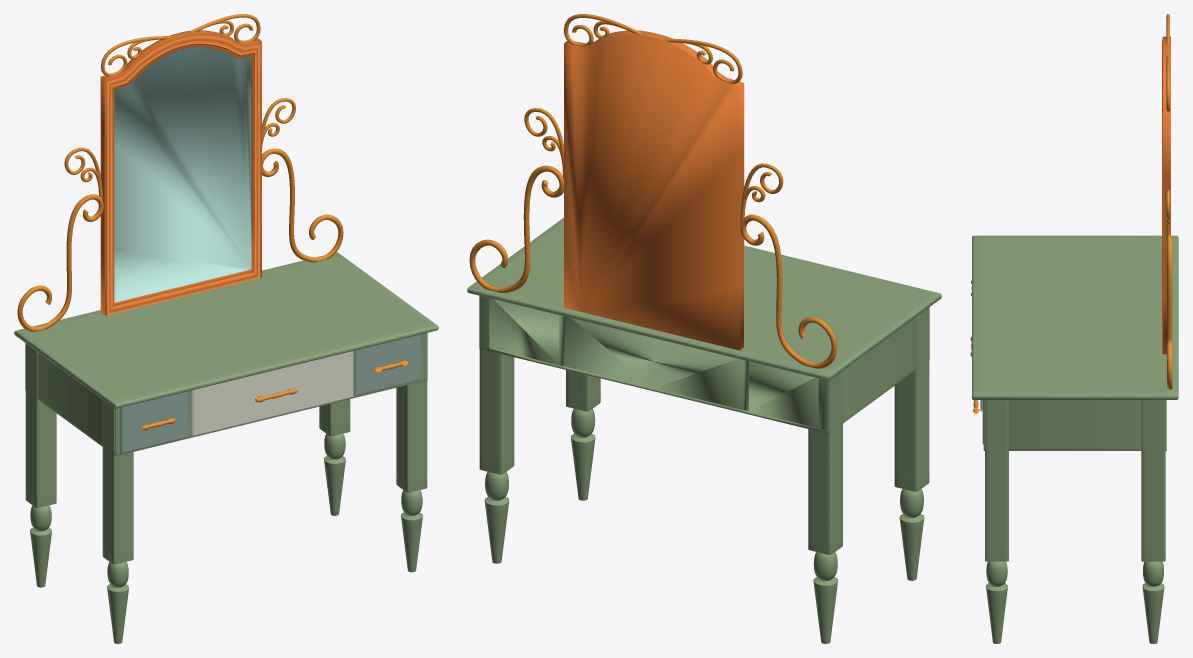
Rendered from Furniture_DressingTable.fbx.
The picture shows the model from 3 angles, left to right: view 1: azimuth 30°, elevation 25°; view 2: azimuth 150°, elevation 25°; view 3: azimuth 270°, elevation 25°; orthographic projection. The views are drawn at different scales.
Parts seen in each view (by area): view 1: Cube.001, TableTop, Cube.004, DrawerM, CurlyCurve, DrawerL, DrawerR, CurlyCurve.005; view 2: Cube.001, TableTop, Cube.004, CurlyCurve, CurlyCurve.005; view 3: TableTop, Cube.004, Cube.001, CurlyCurve, CurlyCurve.005.
Boxes of the visible parts, box(x1,y1,x2,y2) form: Cube.001: box(100, 30, 261, 315); TableTop: box(14, 252, 438, 456); Cube.004: box(25, 343, 427, 643); DrawerM: box(191, 351, 353, 436); CurlyCurve: box(17, 148, 343, 331); DrawerL: box(120, 391, 187, 453); DrawerR: box(354, 334, 420, 395); CurlyCurve.005: box(64, 14, 295, 199); Cube.001: box(564, 30, 744, 350); TableTop: box(467, 218, 941, 433); Cube.004: box(479, 307, 929, 643); CurlyCurve: box(469, 165, 837, 368); CurlyCurve.005: box(524, 14, 783, 225); TableTop: box(972, 235, 1178, 450); Cube.004: box(985, 400, 1165, 643); Cube.001: box(1162, 36, 1170, 354); CurlyCurve: box(1167, 234, 1172, 389); CurlyCurve.005: box(1166, 14, 1169, 241).
Bounding box in the file's own units: 105 × 158 × 56.83.
